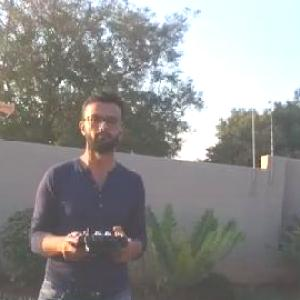follow: (20, 75, 157, 299)
